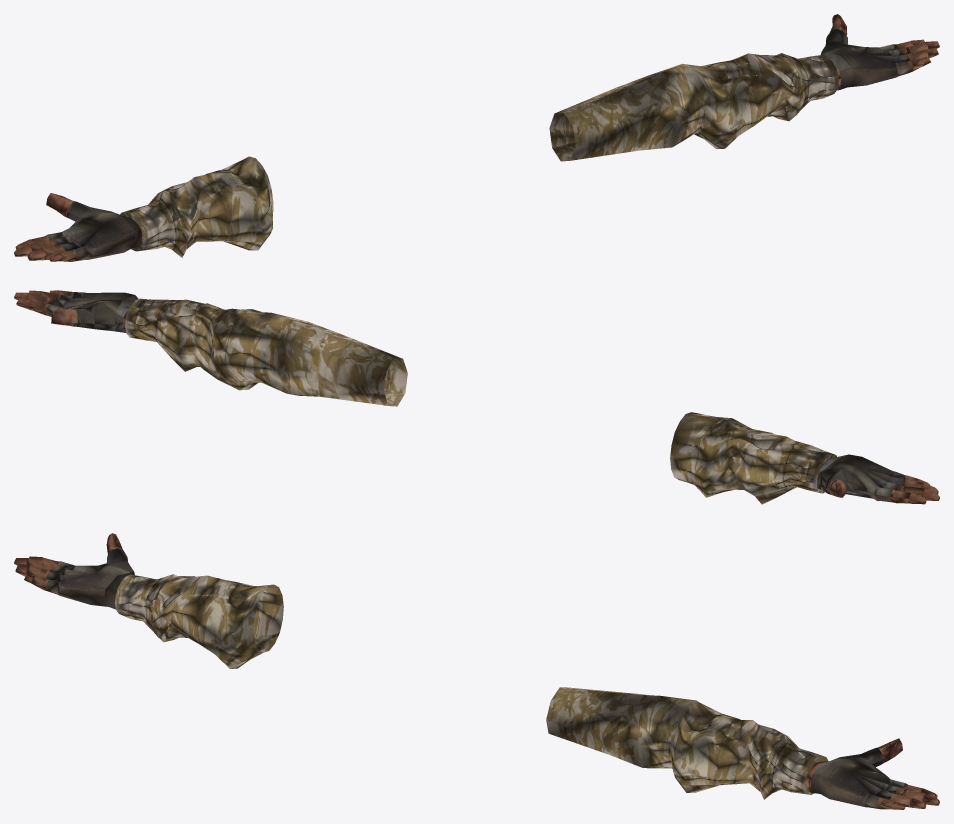
The model's file is ArmsC.glb.
3 views of the same model, one above another, from view 1: azimuth 30°, elevation 25°; view 2: azimuth 150°, elevation 25°; view 3: azimuth 330°, elevation 25° (orthographic).
Parts seen in each view (by area): view 1: _armsC; view 2: _armsC; view 3: _armsC.
Boxes of the visible parts, x1=… form: _armsC: x1=14, y1=14, x2=939, y2=261; _armsC: x1=14, y1=290, x2=939, y2=504; _armsC: x1=14, y1=533, x2=939, y2=809.
Bounding box in the file's own units: 1.9 × 0.1749 × 0.2103.
2 materials, 2 textured.
